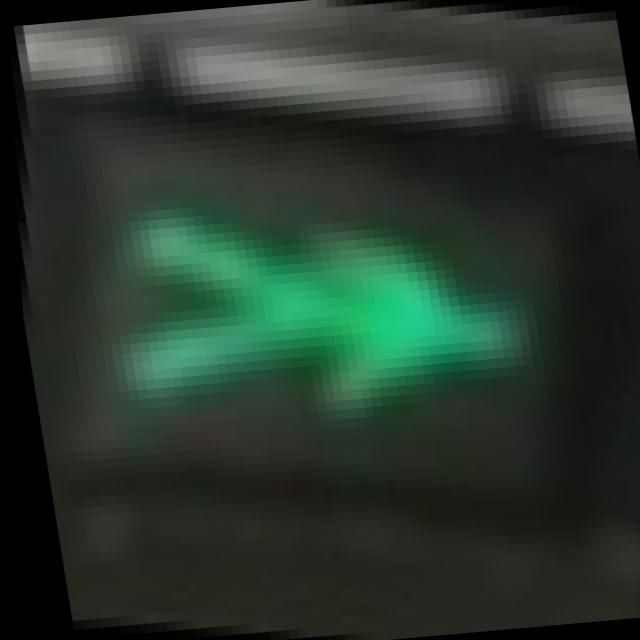green_light: (101, 165, 599, 500)
